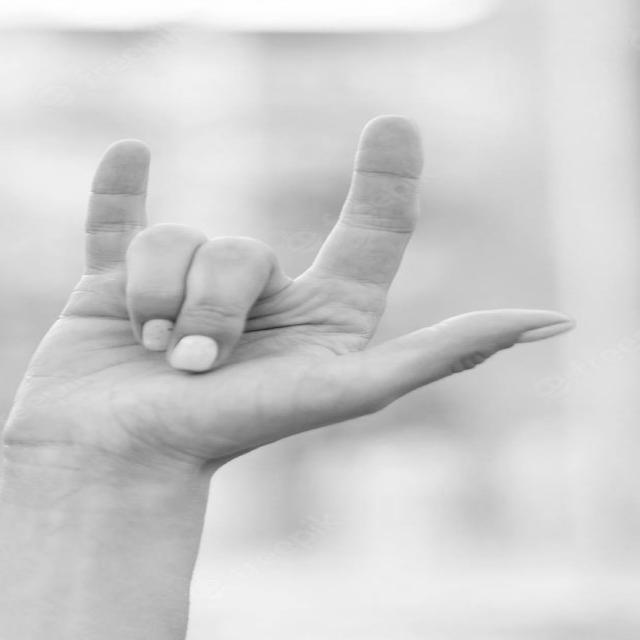i love you: (0, 102, 591, 531)
